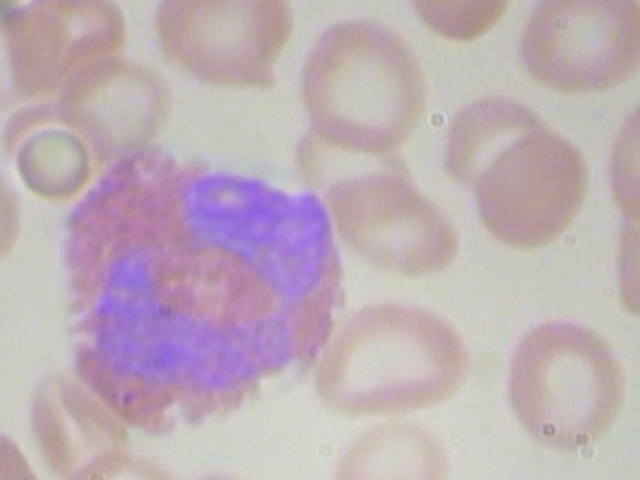RBC: (297, 294, 479, 418), (292, 14, 443, 161), (495, 314, 634, 461), (464, 124, 595, 251), (317, 169, 462, 279), (148, 0, 298, 97), (507, 0, 640, 104), (440, 88, 548, 192), (0, 2, 71, 121), (12, 126, 91, 206), (597, 84, 640, 228), (401, 0, 515, 44), (0, 150, 27, 272)
WBC: (47, 144, 371, 442)
